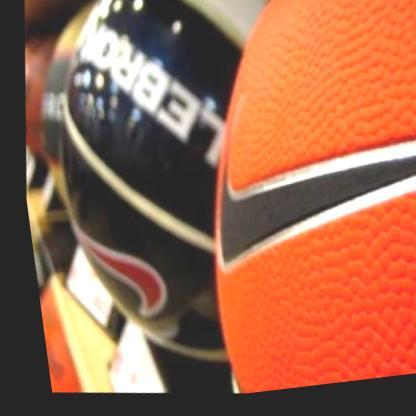basketball: (159, 0, 416, 401)
